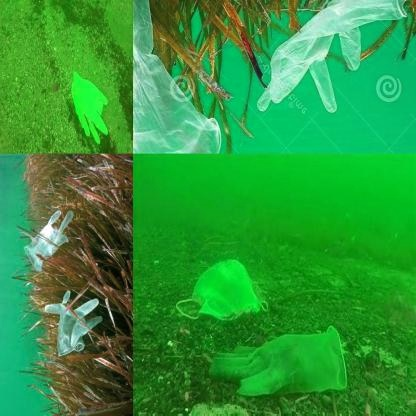Mask: (176, 257, 270, 320)
glove: (253, 0, 412, 119), (133, 0, 224, 153), (207, 324, 348, 396), (45, 282, 104, 359), (20, 204, 75, 273), (71, 70, 108, 143)
